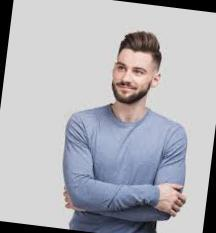Sober: (113, 52, 151, 96)
